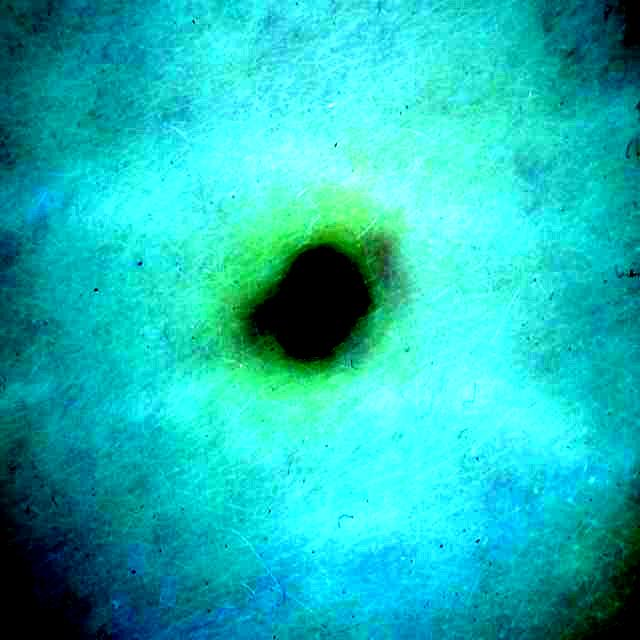VASC: (284, 257, 368, 356)
